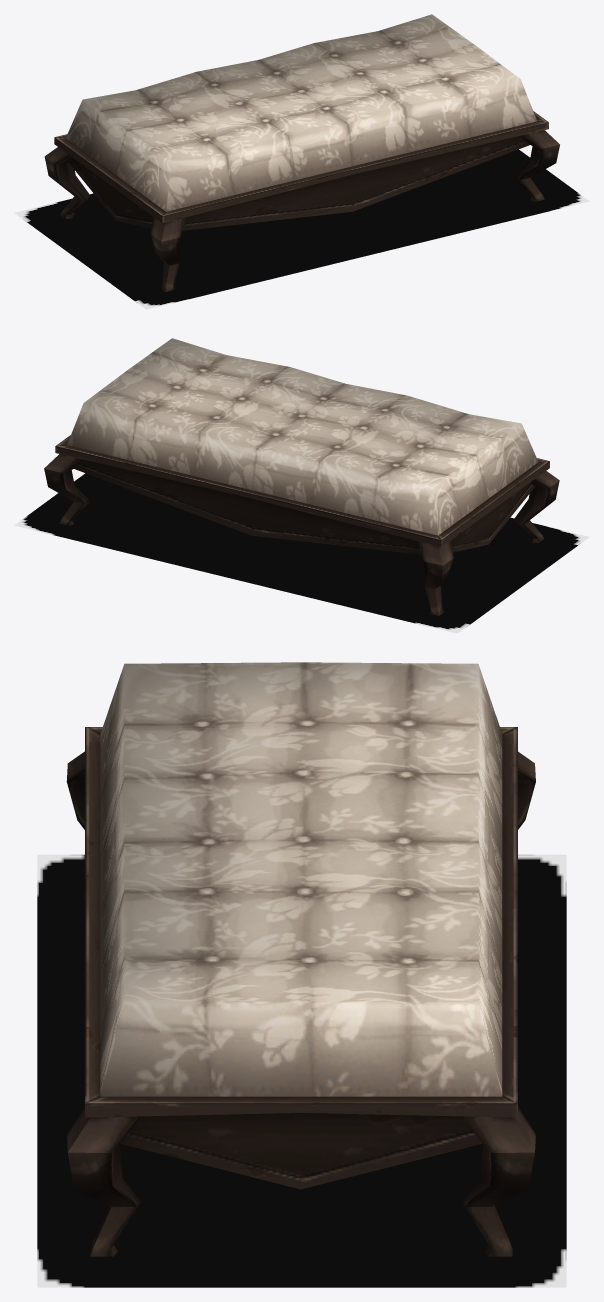
The model's file is jj_ty_shafa04.FBX.
3 views of the same model, one above another, from view 1: azimuth 30°, elevation 25°; view 2: azimuth 150°, elevation 25°; view 3: azimuth 270°, elevation 25° (orthographic). The views are drawn at different scales.
Parts seen in each view (by area): view 1: jj_ty_shafa04, shadow; view 2: jj_ty_shafa04, shadow; view 3: jj_ty_shafa04, shadow.
Boxes of the visible parts, x1,y1,x2,y2 form: jj_ty_shafa04: (44, 14, 559, 291); shadow: (14, 149, 589, 309); jj_ty_shafa04: (44, 338, 559, 615); shadow: (14, 473, 589, 633); jj_ty_shafa04: (66, 662, 535, 1256); shadow: (37, 854, 566, 1287).
Size of the model in its own units: 231 by 59.74 by 119.
